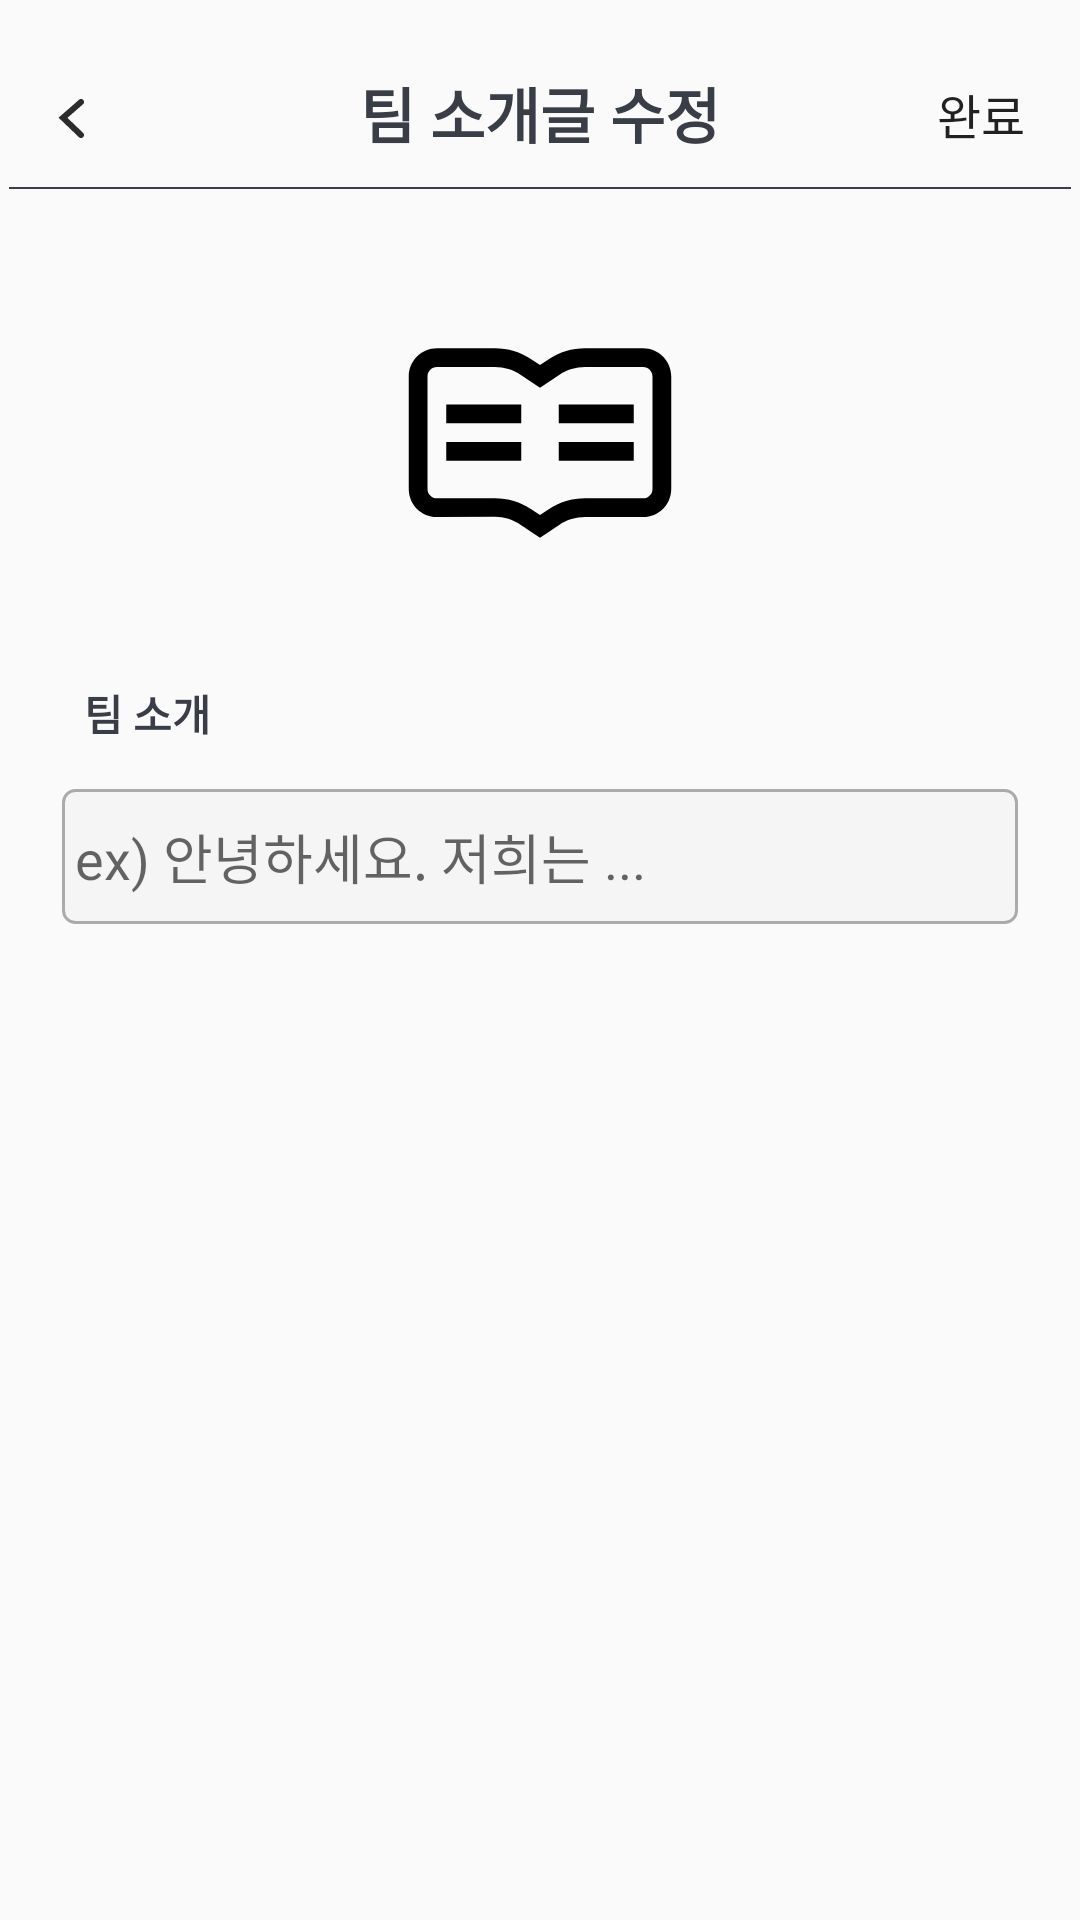

Where icons sit on this 1080x1920 app screen, as bbox=[x1, y1, x2, y2]:
arrow: bbox=[58, 99, 84, 138]
instruction: bbox=[408, 348, 672, 538]
